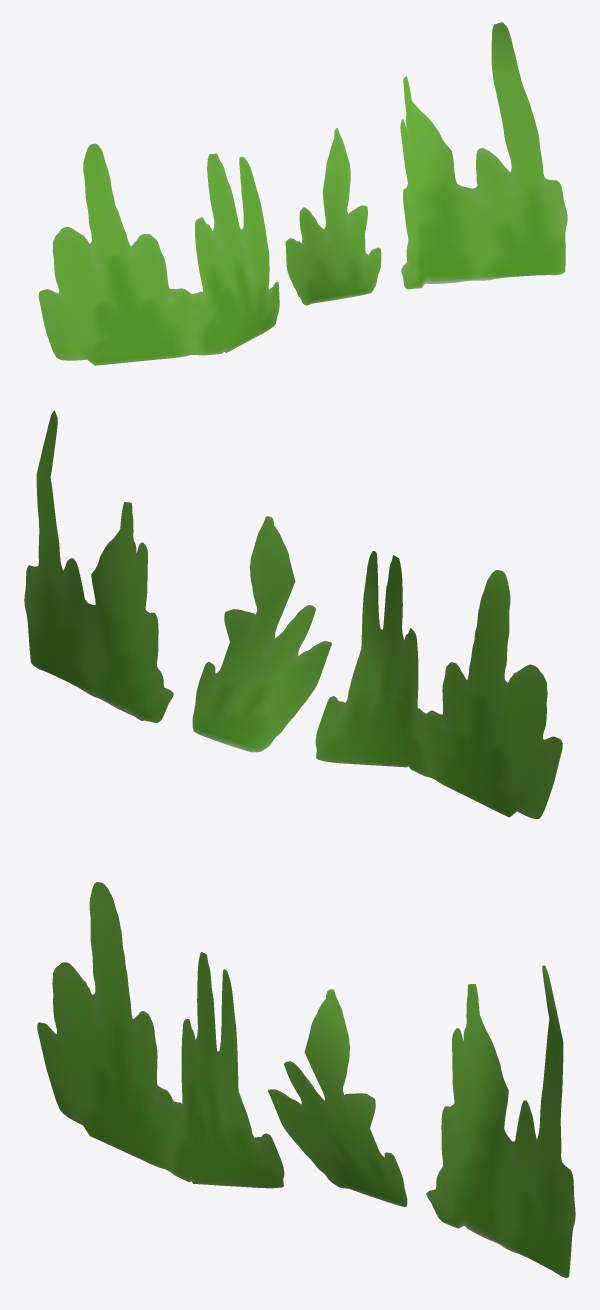
Rendered from Grass_01.fbx.
The picture shows the model from 3 angles, top to bottom: view 1: azimuth 30°, elevation 25°; view 2: azimuth 150°, elevation 25°; view 3: azimuth 330°, elevation 25°; orthographic projection. The views are drawn at different scales.
Visible parts, largest first — view 1: Grass_01; view 2: Grass_01; view 3: Grass_01.
Part boxes in pixels (<box>): Grass_01: <box>38,22,567,365</box>; Grass_01: <box>24,410,562,819</box>; Grass_01: <box>37,882,575,1278</box>.
Bounding box in the file's own units: 149 × 21.3 × 70.45.
